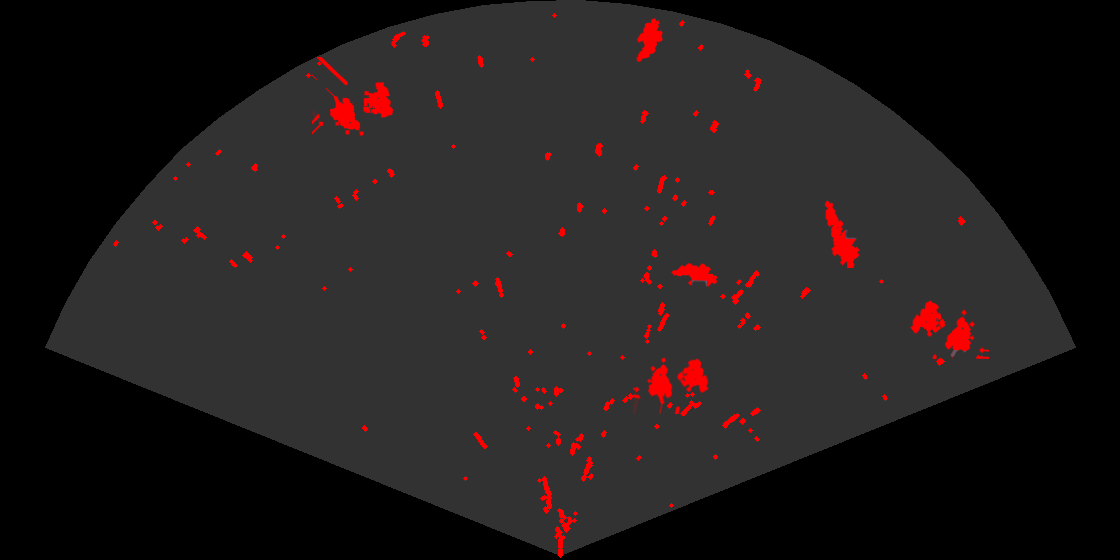AUV: (635, 17, 664, 63), (670, 262, 719, 288)
cage: (312, 57, 395, 137), (909, 299, 989, 359), (633, 356, 710, 414)
frogman: (823, 199, 861, 268)
